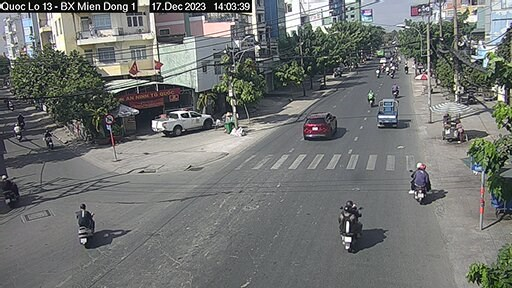car: (149, 108, 215, 138), (302, 108, 339, 142)
motorbike: (337, 198, 367, 251), (74, 209, 99, 249), (1, 172, 24, 212), (411, 162, 432, 201), (362, 84, 376, 106), (385, 84, 402, 97)
truck: (377, 94, 401, 132)
